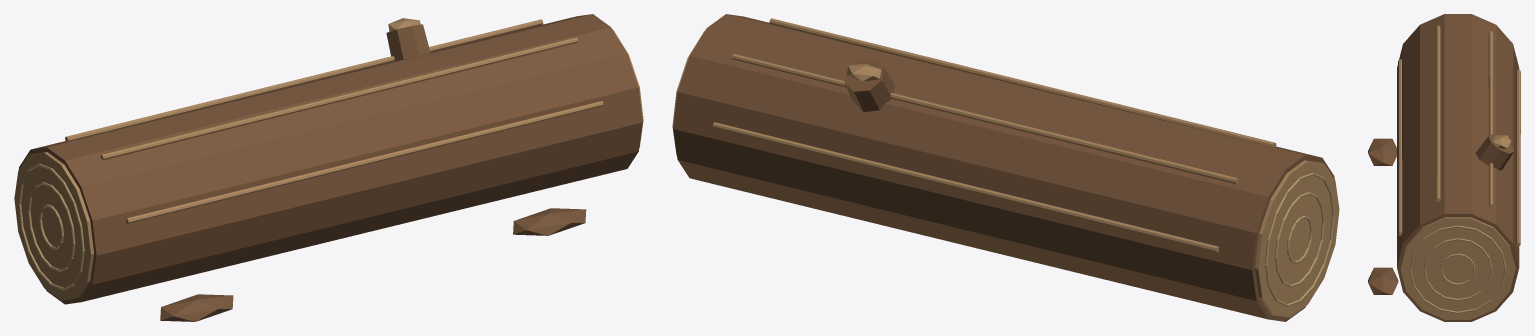
3 views of the same model, side by side, from view 1: azimuth 30°, elevation 25°; view 2: azimuth 150°, elevation 25°; view 3: azimuth 270°, elevation 25° (orthographic). The views are drawn at different scales.
Visible parts, largest first — view 1: WW-002 Fresh-cut hardwood log batched; view 2: WW-002 Fresh-cut hardwood log batched; view 3: WW-002 Fresh-cut hardwood log batched.
Boxes of the visible parts, x1,y1,x2,y2 form: WW-002 Fresh-cut hardwood log batched: (14,14,643,321); WW-002 Fresh-cut hardwood log batched: (672,14,1339,321); WW-002 Fresh-cut hardwood log batched: (1368,14,1520,321).
Bounding box in the file's own units: 2.45 × 0.7114 × 0.7751.
